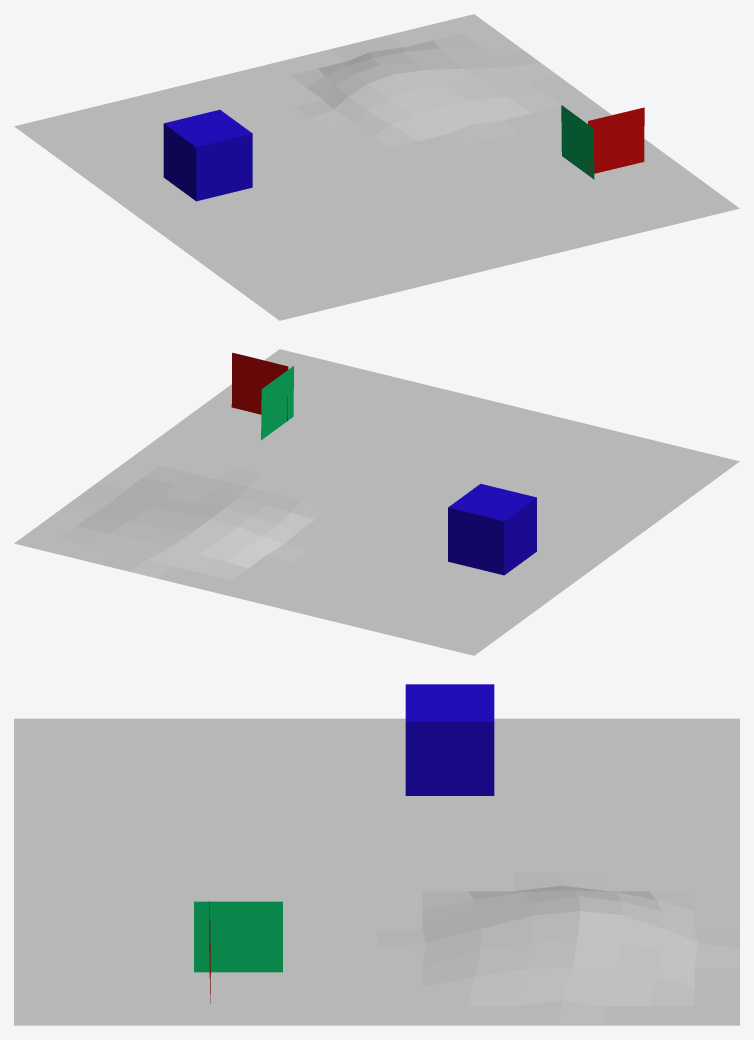
The model's file is empty3.obj.
3 renders of one model, top to bottom at view 1: azimuth 30°, elevation 25°; view 2: azimuth 150°, elevation 25°; view 3: azimuth 270°, elevation 25°, orthographic. The views are drawn at different scales.
Visible parts, largest first — view 1: Plane, Cube_Cube.001, Plane.002, Plane.001; view 2: Plane, Cube_Cube.001, Plane.002, Plane.001; view 3: Plane, Cube_Cube.001, Plane.001.
Boxes of the visible parts, x1=… form: Plane: x1=14, y1=14, x2=739, y2=320; Cube_Cube.001: x1=163, y1=109, x2=252, y2=201; Plane.002: x1=587, y1=107, x2=644, y2=174; Plane.001: x1=561, y1=105, x2=594, y2=179; Plane: x1=14, y1=349, x2=739, y2=655; Cube_Cube.001: x1=448, y1=483, x2=536, y2=575; Plane.002: x1=231, y1=352, x2=288, y2=421; Plane.001: x1=261, y1=366, x2=293, y2=440; Plane: x1=14, y1=718, x2=739, y2=1025; Cube_Cube.001: x1=405, y1=684, x2=494, y2=795; Plane.001: x1=194, y1=901, x2=282, y2=972.
Bounding box in the file's own units: 16.36 × 2.11 × 16.36.
